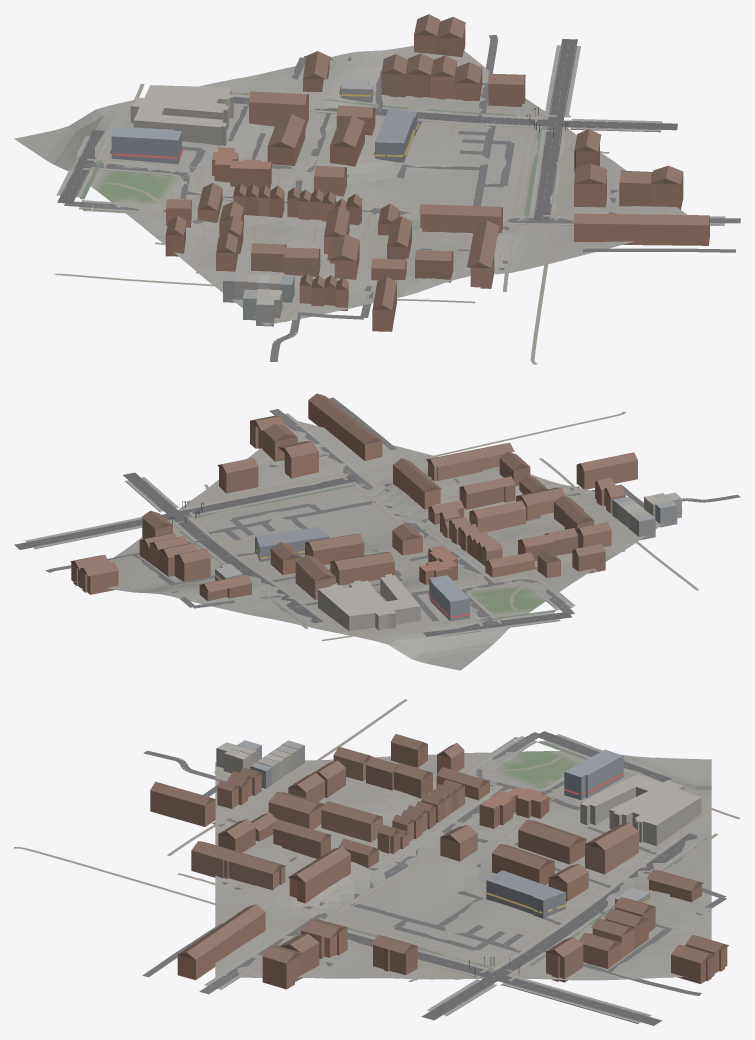
Rendered from tile_-6_5.glb.
3 views of the same model, one above another, from view 1: azimuth 30°, elevation 25°; view 2: azimuth 150°, elevation 25°; view 3: azimuth 270°, elevation 25° (orthographic). The views are drawn at different scales.
Visible parts, largest first — view 1: buildings, terrain, roads, paths, sidewalks; view 2: buildings, terrain, roads, paths, sidewalks; view 3: buildings, terrain, roads, paths, sidewalks.
Part boxes in pixels (box(x1,y1,x2,y2)): buildings: box(111, 14, 709, 331); terrain: box(14, 45, 687, 325); roads: box(57, 35, 740, 361); paths: box(54, 84, 683, 364); sidewalks: box(56, 45, 725, 225); buildings: box(70, 393, 681, 631); terrain: box(75, 421, 682, 670); roads: box(14, 397, 740, 636); paths: box(172, 411, 698, 641); sidewalks: box(25, 413, 573, 636); buildings: box(150, 734, 728, 989); terrain: box(215, 751, 711, 980); roads: box(142, 731, 726, 1025); paths: box(14, 699, 740, 985); sidewalks: box(204, 734, 695, 1023).
Bounding box in the file's own units: 381 × 25.61 × 375.
